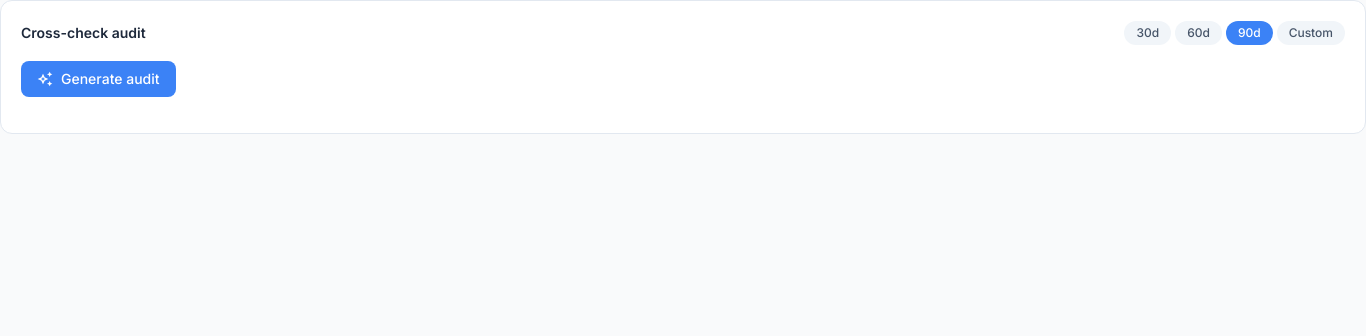
Test: CrossCheckAudit › rendered markdown appears after success
Click the button "Generate audit". click: (98, 79)
box: top-left (21, 61), bottom-right (176, 97)
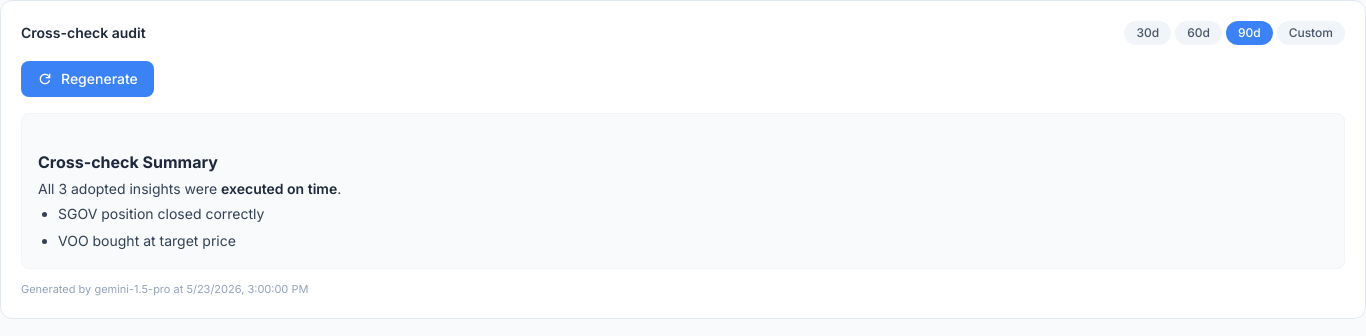
Expected: the heading "Cross-check Summary" is shown, top-left (38, 152), bottom-right (218, 172)
Expected: the list item "SGOV position closed correctly" is shown, top-left (58, 205), bottom-right (264, 222)
Expected: the text "executed on time" is shown, top-left (221, 180), bottom-right (337, 197)
